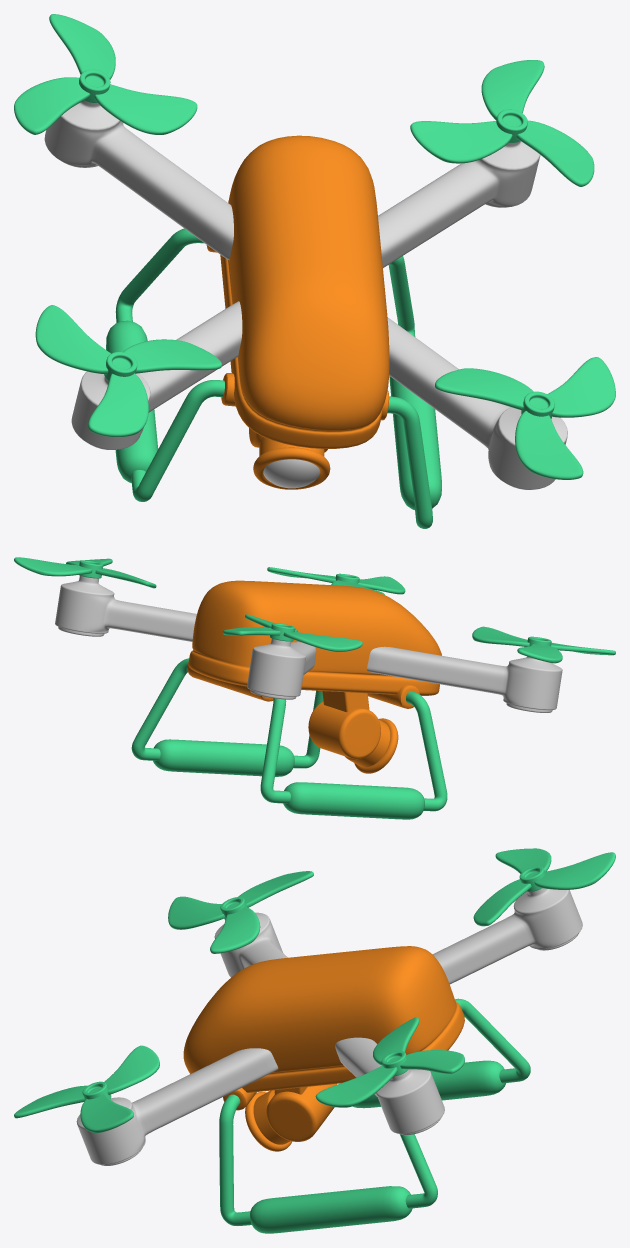
Rendered from drone-3d-icon-546587536858.glb.
3 renders of one model, top to bottom at view 1: azimuth 30°, elevation 25°; view 2: azimuth 150°, elevation 25°; view 3: azimuth 270°, elevation 25°, orthographic. The views are drawn at different scales.
Visible parts, largest first — view 1: Propeller & Legs, Body, Arm, Camera Lens; view 2: Body, Propeller & Legs, Arm; view 3: Body, Propeller & Legs, Arm.
Part boxes in pixels (box(x1,y1,x2,y2)): Propeller & Legs: box(14, 14, 615, 528); Body: box(206, 135, 389, 489); Arm: box(44, 100, 567, 489); Camera Lens: box(263, 459, 320, 488); Body: box(187, 580, 441, 773); Propeller & Legs: box(14, 557, 615, 819); Arm: box(55, 575, 562, 712); Body: box(183, 946, 464, 1151); Propeller & Legs: box(14, 848, 615, 1233); Arm: box(76, 888, 582, 1165).
Bounding box in the file's own units: 3.55 × 2.08 × 3.61.
